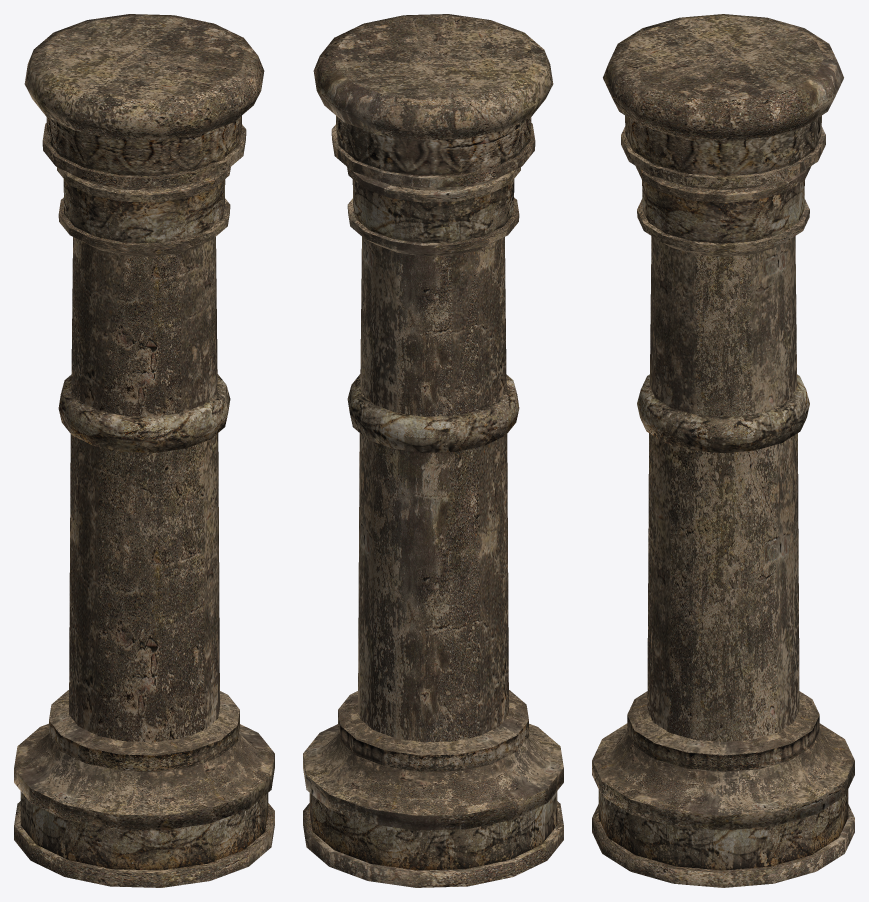
Rendered from materials_5_pillar_short_3.fbx.
3 renders of one model, left to right at view 1: azimuth 30°, elevation 25°; view 2: azimuth 150°, elevation 25°; view 3: azimuth 270°, elevation 25°, orthographic.
Visible parts, largest first — view 1: materials_5_pillar_short_3; view 2: materials_5_pillar_short_3; view 3: materials_5_pillar_short_3.
Boxes of the visible parts, x1,y1,x2,y2 form: materials_5_pillar_short_3: (14,14,274,887); materials_5_pillar_short_3: (303,14,563,887); materials_5_pillar_short_3: (592,14,854,887).
Size of the model in its own units: 60.79 by 198 by 60.79.
